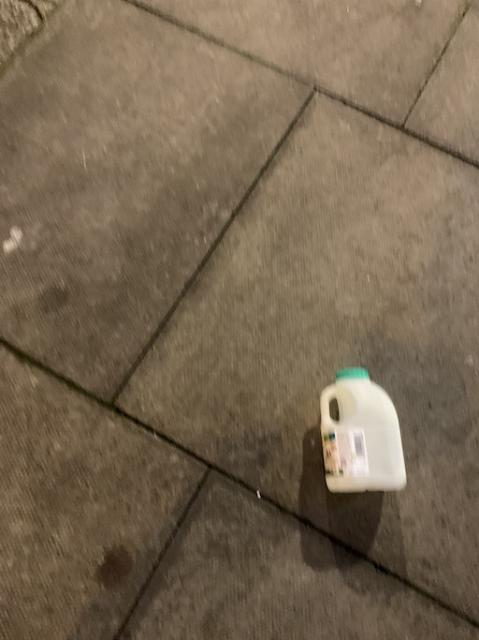plastic: (320, 366, 405, 490)
